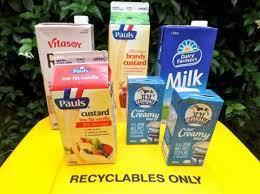cardboard: (35, 22, 114, 164), (162, 88, 222, 164), (157, 25, 216, 89), (109, 1, 149, 84), (128, 76, 164, 143)
